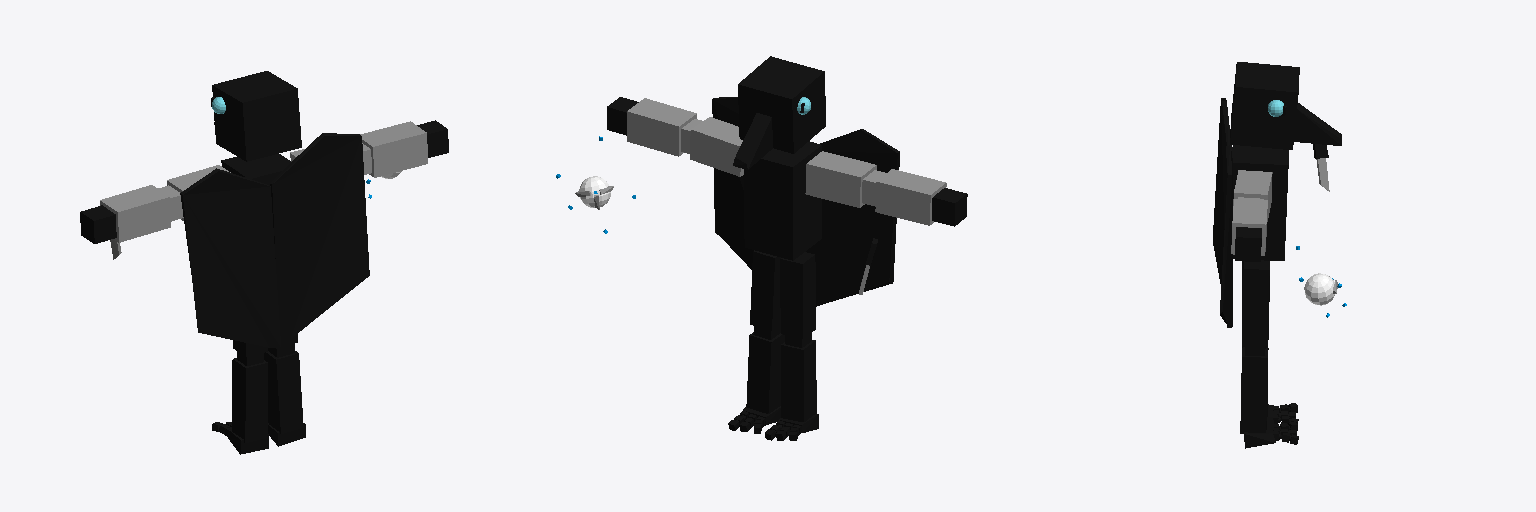
3 views of the same model, side by side, from view 1: azimuth 30°, elevation 25°; view 2: azimuth 150°, elevation 25°; view 3: azimuth 270°, elevation 25° (orthographic).
Visible parts, largest first — view 1: group[number redacted], group[number redacted], group[number redacted], group[number redacted], group[number redacted], group[number redacted], group[number redacted], group[number redacted], group[number redacted], group[number redacted], group[number redacted], group[number redacted]; view 2: group[number redacted], group[number redacted], group[number redacted], group[number redacted], group[number redacted], group[number redacted], group[number redacted], group[number redacted], group[number redacted], group[number redacted], group[number redacted], group[number redacted] (+6 smaller); view 3: group[number redacted], group[number redacted], group[number redacted], group[number redacted], group[number redacted], group[number redacted], group[number redacted], group[number redacted], group[number redacted], group[number redacted], group[number redacted], group[number redacted] (+1 smaller).
Part boxes in pixels (x1,y1,x2,y2): group[number redacted]: (270,133,369,345); group[number redacted]: (180,168,280,347); group[number redacted]: (212,71,301,161); group[number redacted]: (232,358,267,442); group[number redacted]: (100,185,170,242); group[number redacted]: (360,121,427,177); group[number redacted]: (264,351,303,433); group[number redacted]: (221,154,290,185); group[number redacted]: (80,205,116,243); group[number redacted]: (417,120,448,157); group[number redacted]: (212,422,268,454); group[number redacted]: (167,165,230,220); group[number redacted]: (806,129,899,306); group[number redacted]: (744,141,821,260); group[number redacted]: (738,56,825,153); group[number redacted]: (712,97,753,269); group[number redacted]: (780,252,815,338); group[number redacted]: (805,151,876,207); group[number redacted]: (875,169,946,225); group[number redacted]: (627,98,696,156); group[number redacted]: (781,340,816,421); group[number redacted]: (746,332,784,413); group[number redacted]: (690,117,743,176); group[number redacted]: (750,250,780,330); group[number redacted]: (1230,62,1299,149); group[number redacted]: (1232,145,1288,260); group[number redacted]: (1242,260,1269,345); group[number redacted]: (1240,347,1268,433); group[number redacted]: (1213,98,1231,327); group[number redacted]: (1220,145,1232,326); group[number redacted]: (1294,103,1341,145); group[number redacted]: (1231,199,1267,255); group[number redacted]: (1233,170,1272,221); group[number redacted]: (1244,422,1298,448); group[number redacted]: (1296,246,1346,317); group[number redacted]: (1235,227,1261,261).
Size of the model in its own units: 2.58 by 2.43 by 0.8306.